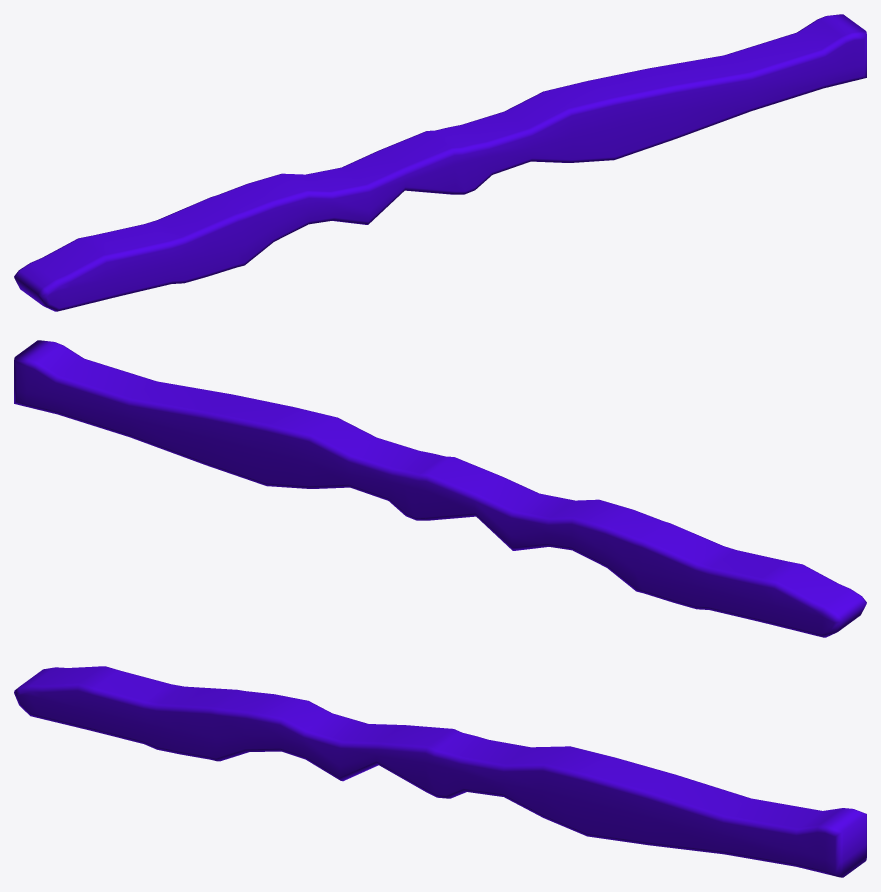
The model's file is CaveBottom_01.fbx.
3 renders of one model, top to bottom at view 1: azimuth 30°, elevation 25°; view 2: azimuth 150°, elevation 25°; view 3: azimuth 330°, elevation 25°, orthographic.
Parts seen in each view (by area): view 1: CaveBottom; view 2: CaveBottom; view 3: CaveBottom.
Part boxes in pixels (left/top/right/bottom): CaveBottom: left=14, top=14, right=866, bottom=311; CaveBottom: left=14, top=340, right=866, bottom=637; CaveBottom: left=14, top=666, right=866, bottom=877.
Bounding box in the file's own units: 447975 × 45068 × 27238.
